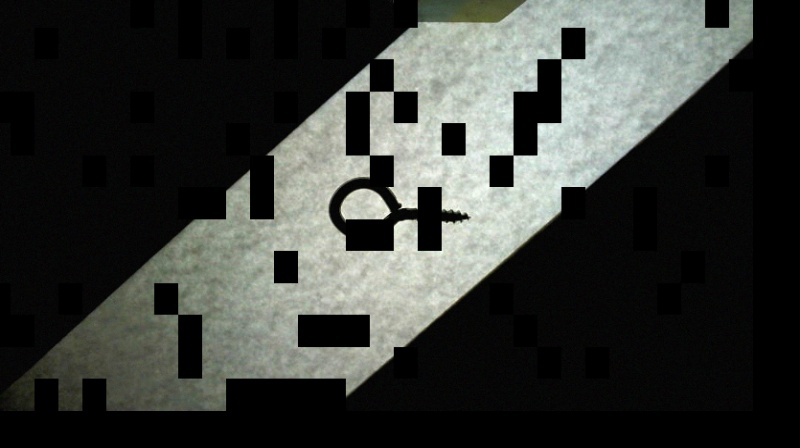O001: (325, 175, 473, 243)
